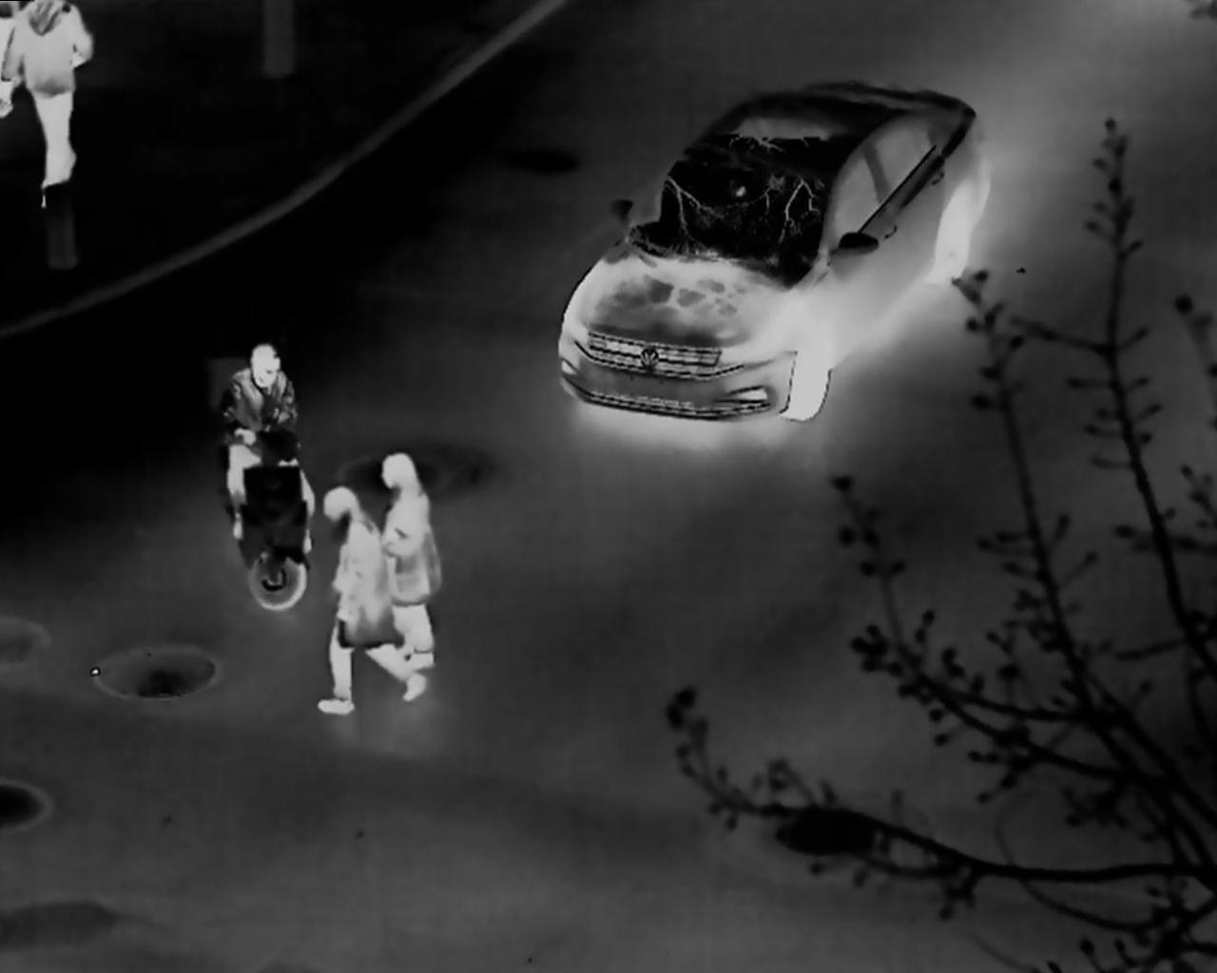person: (314, 485, 427, 719), (221, 340, 318, 556), (375, 448, 442, 673)
